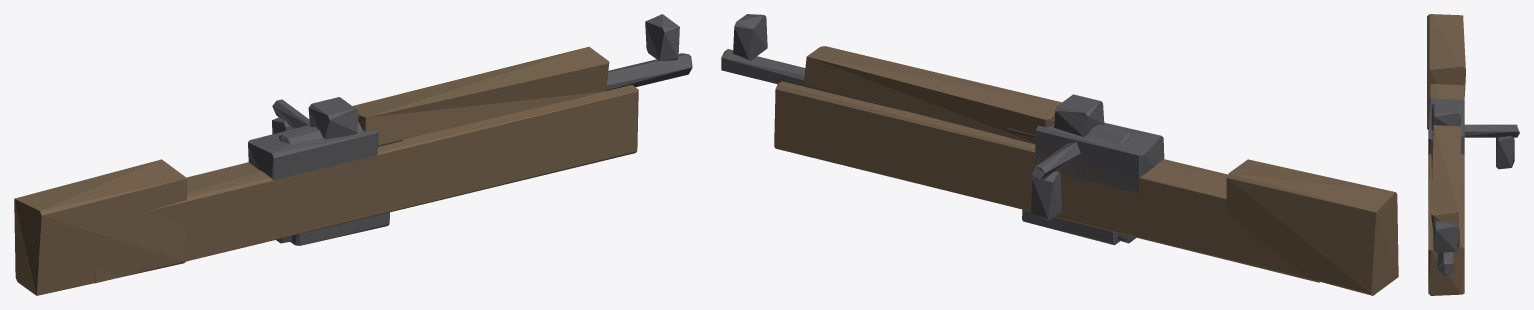
The model's file is weapon_rifle_germany.lod1.glb.
3 renders of one model, left to right at view 1: azimuth 30°, elevation 25°; view 2: azimuth 150°, elevation 25°; view 3: azimuth 270°, elevation 25°, orthographic. The views are drawn at different scales.
Size of the model in its own units: 0.97 by 0.18 by 0.158.
